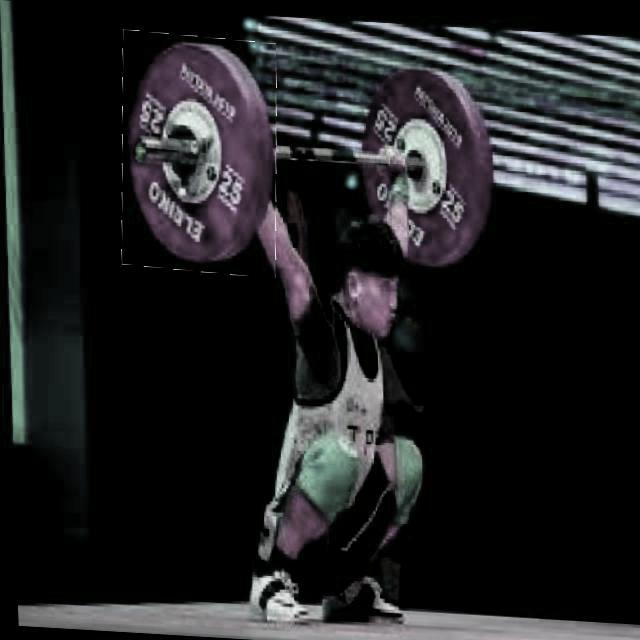barbell: (118, 30, 280, 275)
